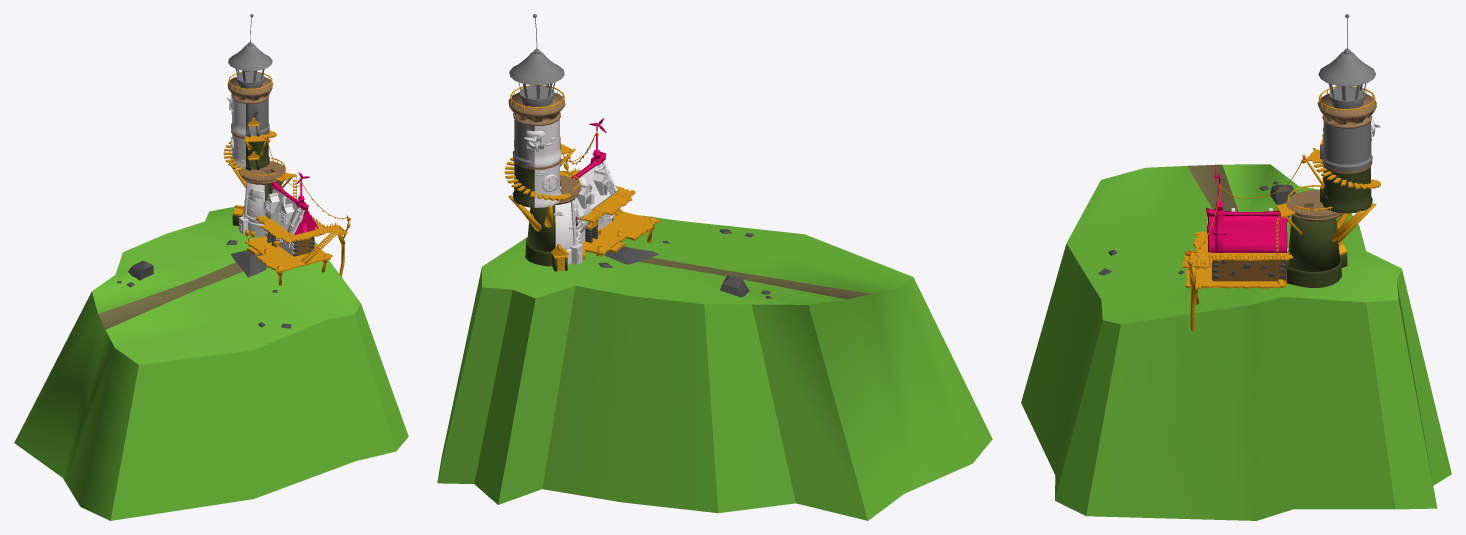
The model's file is Faro_Prueba_Pls_2.fbx.
The picture shows the model from 3 angles, left to right: view 1: azimuth 30°, elevation 25°; view 2: azimuth 150°, elevation 25°; view 3: azimuth 270°, elevation 25°; orthographic projection. The views are drawn at different scales.
Parts seen in each view (by area): view 1: Césped, Césped.001, Techo, SueloMadera, Rocas, Base.009, BaseFaro.001, Tuberia.004, Base.007, Balconazo, Cube.010, Base.004 (+1 smaller); view 2: Césped, Techo, Césped.001, SueloMadera, BaseFaro.002, Rocas, Base.009, Base.008, BaseFaro.001, Balconazo, Cube.010, Base.007 (+2 smaller); view 3: Césped, BaseFaro.002, Cube.002, Techo, Base.007, Base.004, Paredes, Césped.001, Base.009, Tuberia.004, SueloMadera, Balconazo.001 (+1 smaller).
Boxes of the visible parts, box(x1,y1,x2,y2) form: Césped: box(14, 205, 408, 520); Césped.001: box(98, 262, 243, 329); Techo: box(228, 14, 272, 88); SueloMadera: box(245, 236, 332, 272); Rocas: box(117, 240, 291, 328); Base.009: box(227, 77, 272, 103); BaseFaro.001: box(242, 182, 265, 236); Tuberia.004: box(238, 161, 285, 184); Base.007: box(245, 98, 269, 136); Balconazo: box(255, 215, 319, 242); Cube.010: box(262, 188, 304, 234); Base.004: box(245, 138, 269, 169); Césped: box(437, 215, 992, 520); Techo: box(509, 14, 564, 107); Césped.001: box(638, 257, 871, 299); SueloMadera: box(582, 210, 660, 255); BaseFaro.002: box(525, 205, 555, 266); Rocas: box(598, 229, 772, 298); Base.009: box(508, 92, 565, 125); Base.008: box(534, 119, 561, 166); BaseFaro.001: box(555, 200, 578, 264); Balconazo: box(579, 185, 635, 222); Cube.010: box(574, 160, 617, 218); Base.007: box(512, 119, 534, 166); Césped: box(1021, 164, 1451, 520); BaseFaro.002: box(1286, 215, 1341, 287); Cube.002: box(1208, 216, 1286, 252); Techo: box(1318, 14, 1375, 109); Base.007: box(1322, 121, 1372, 170); Base.004: box(1322, 167, 1372, 213); Paredes: box(1213, 260, 1285, 281); Césped.001: box(1187, 164, 1238, 211); Base.009: box(1317, 94, 1376, 128); Tuberia.004: box(1285, 190, 1342, 221); SueloMadera: box(1184, 251, 1286, 289); Balconazo.001: box(1182, 252, 1293, 268).
Bounding box in the file's own units: 11855 × 13011 × 10786.
